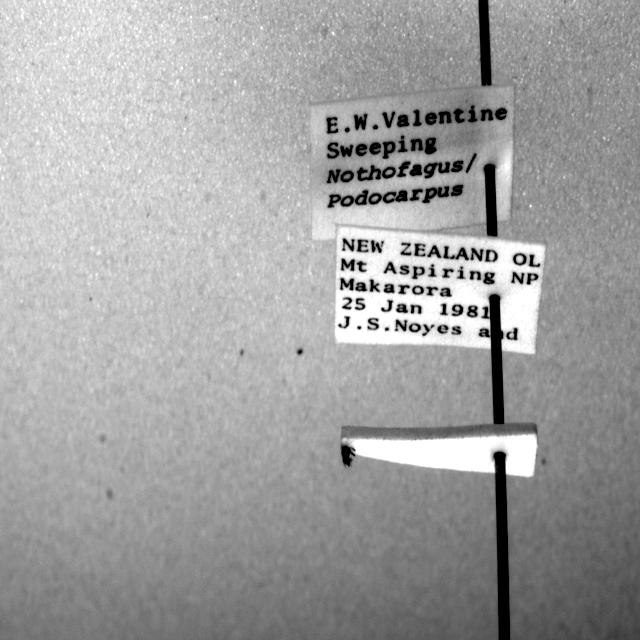typed_label: (310, 86, 514, 240), (335, 227, 546, 354)
